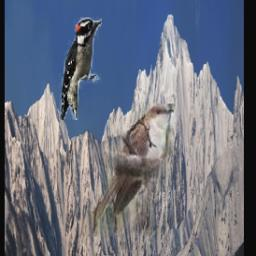Cuckoo: (78, 105, 174, 238)
Woodpecker: (59, 18, 102, 121)
